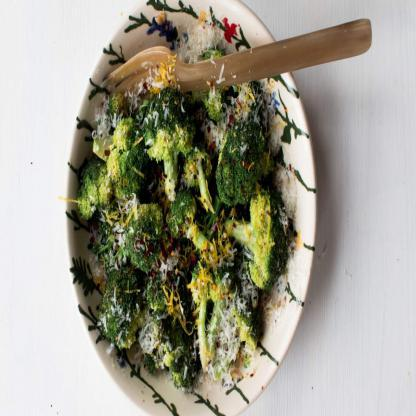broccoli: (79, 43, 291, 392)
